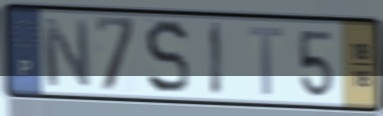5: (295, 28, 337, 100)
7: (94, 14, 138, 96)
I: (208, 19, 225, 100)
N: (40, 15, 94, 91)
S: (143, 17, 192, 98)
T: (245, 23, 285, 99)
